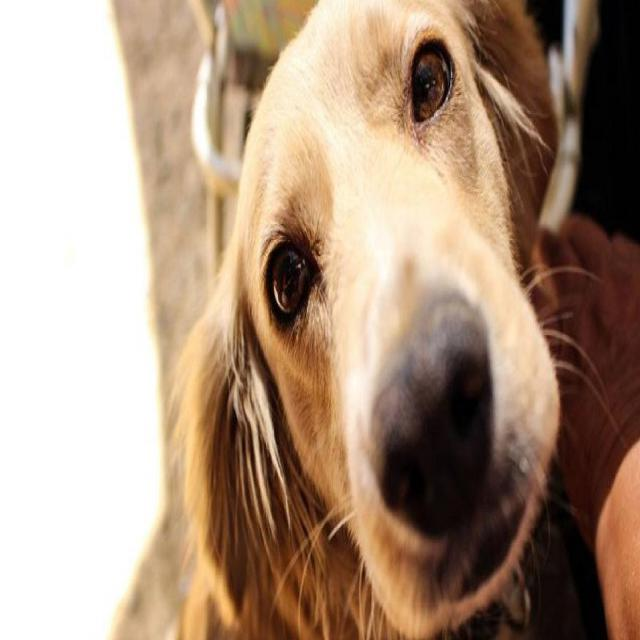eye: (264, 237, 320, 328), (407, 32, 456, 131)
